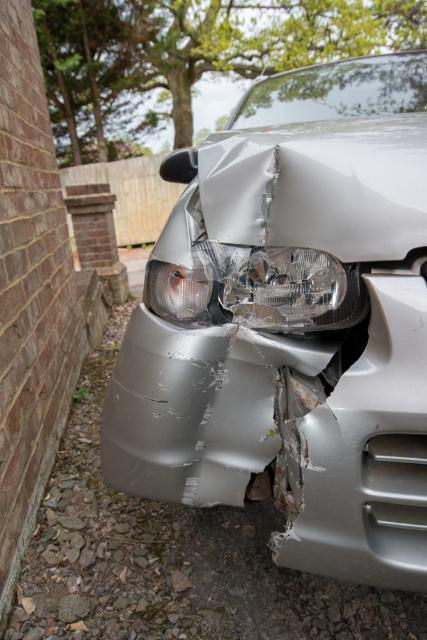crack: (242, 346, 365, 562)
dent: (201, 132, 427, 261), (163, 327, 271, 505)
dislocated part: (246, 255, 427, 600)
lamp broken: (147, 240, 353, 330)
